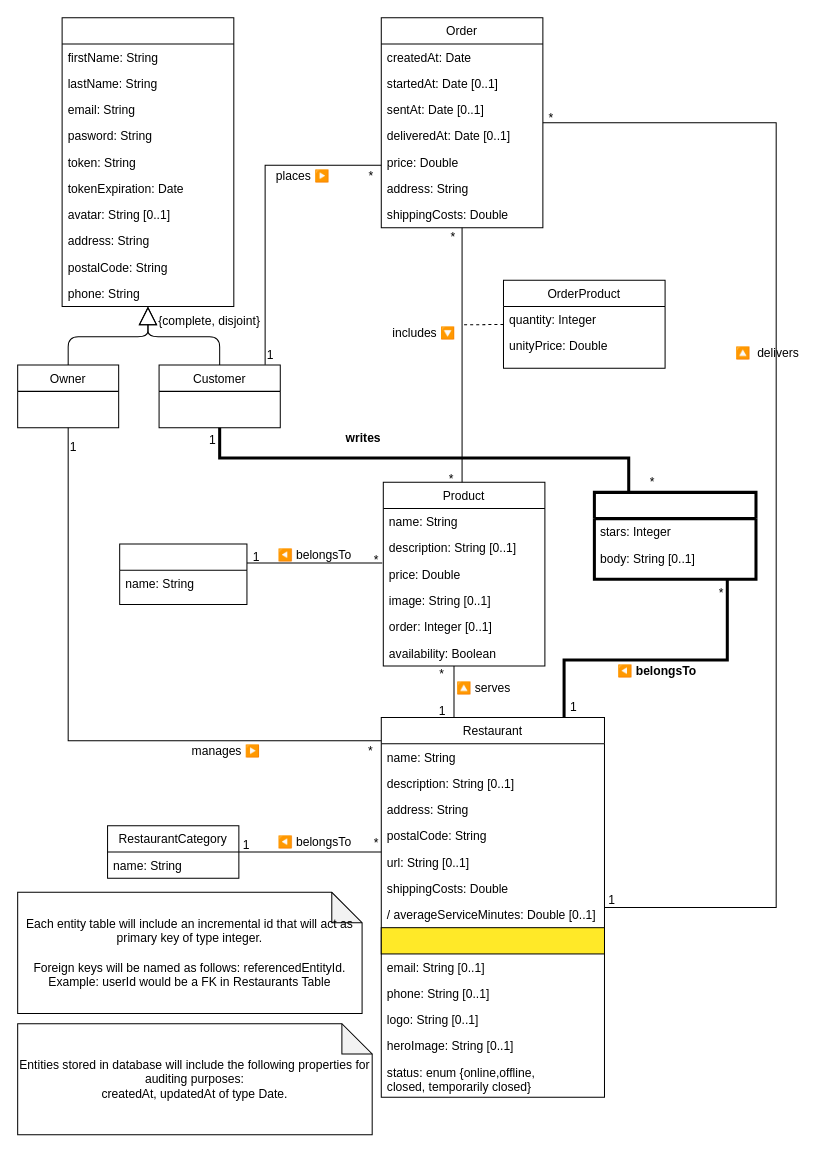
This 816x1152 diagram has some shape labels left out. Each missing label, with the box of its shape:
/ avgStars: Double [0..1]: (380, 927, 604, 954)
ProductCategory: (119, 543, 247, 604)
Review: (592, 490, 757, 580)
User: (61, 17, 234, 307)
